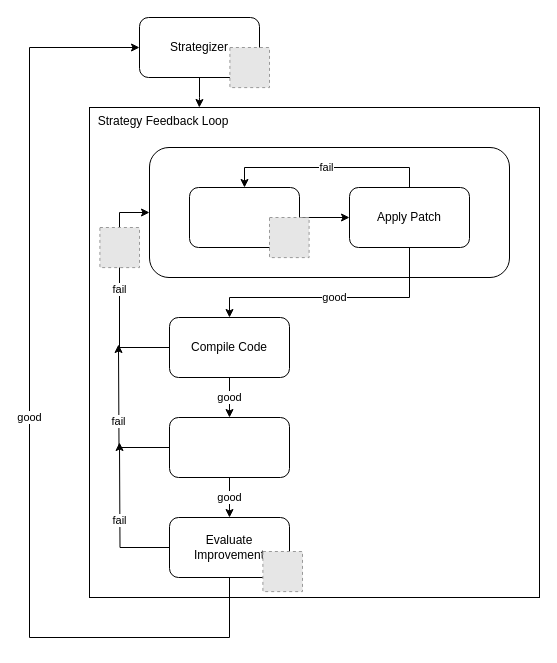
The diagram is 557 pixels wide and 663 high, and some of its shapes have lost their labels. Grey dashed boxes stand in for pictures. Here are the shapes that lost their labels. From the top down, the box of each, then its label:
(188, 186, 300, 248): Generate Code Patch
(148, 146, 510, 278): Generator
(168, 416, 290, 478): Run Test Script
